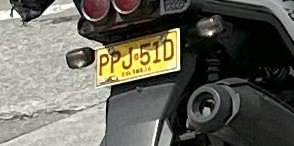number plate: (95, 28, 179, 86)
